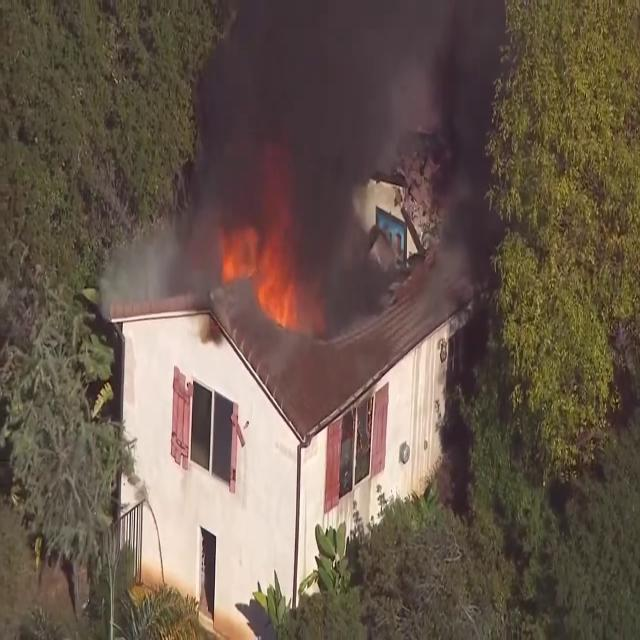Fire: (222, 212, 302, 330)
Smoke: (136, 0, 486, 321)
